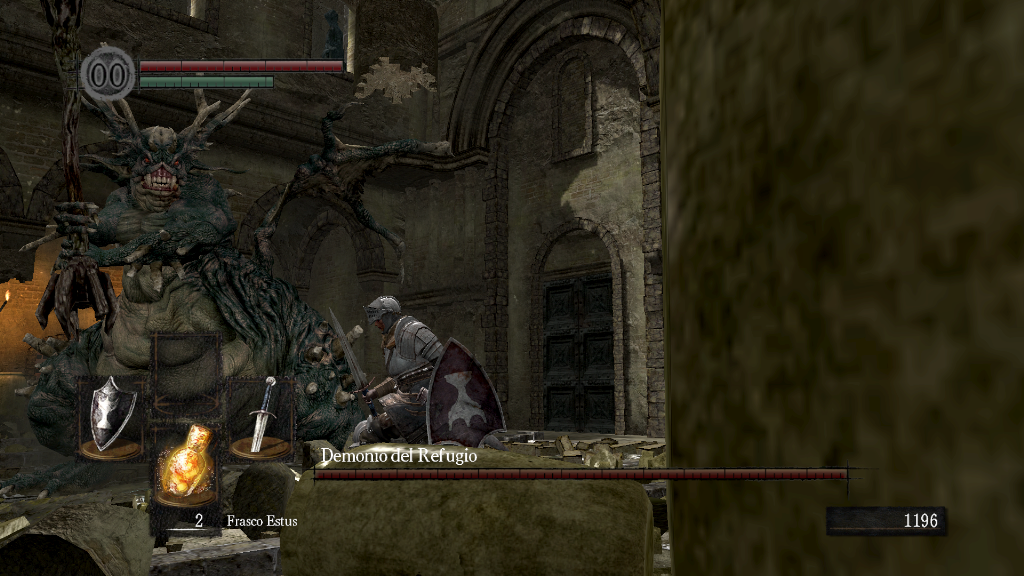asylumDemon: (1, 6, 461, 503)
bossHP: (314, 469, 847, 479)
health: (138, 58, 343, 71)
humanity: (80, 45, 136, 102)
player: (325, 294, 509, 450)
souls: (825, 506, 945, 536)
stamina: (138, 74, 274, 88)
